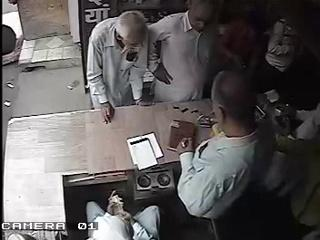Normal: (176, 70, 302, 240), (147, 0, 225, 103), (86, 11, 150, 125), (85, 190, 134, 240)
